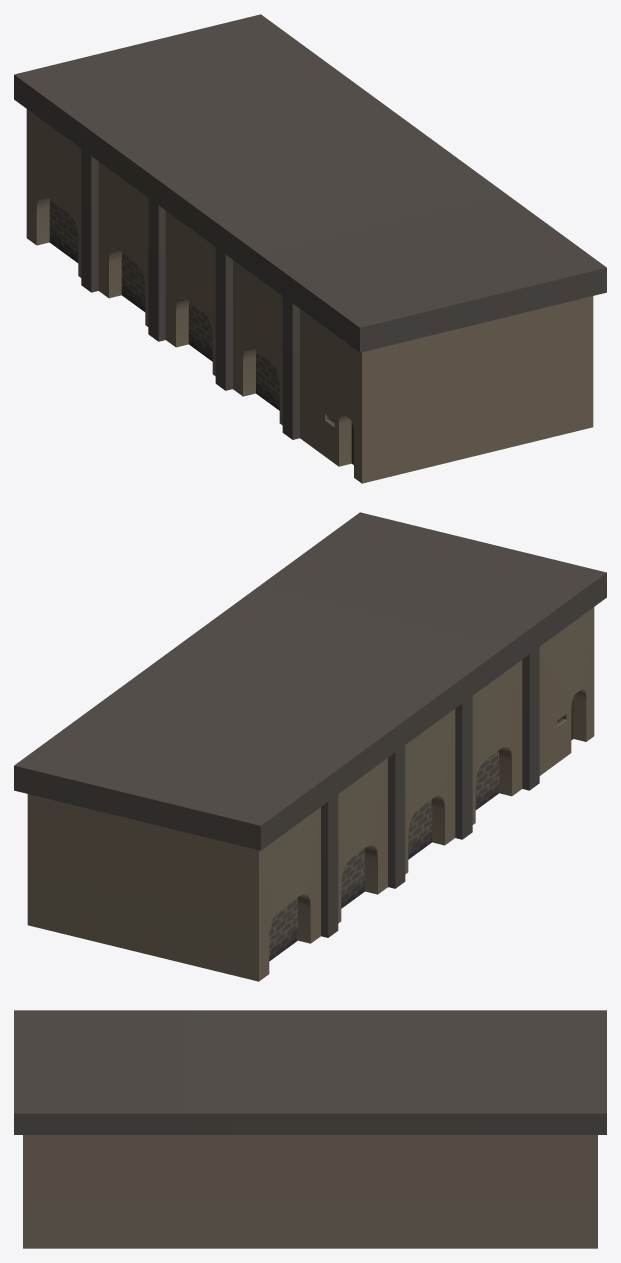
File: Fort_Building.fbx
3 views of the same model, one above another, from view 1: azimuth 30°, elevation 25°; view 2: azimuth 150°, elevation 25°; view 3: azimuth 270°, elevation 25° (orthographic). The views are drawn at different scales.
Visible parts, largest first — view 1: Fort_Building; view 2: Fort_Building; view 3: Fort_Building.
Boxes of the visible parts, bbox=[...] form: Fort_Building: bbox=[14, 14, 606, 483]; Fort_Building: bbox=[14, 512, 606, 981]; Fort_Building: bbox=[14, 1010, 606, 1248].
Size of the model in its own units: 912 by 570 by 2214.
